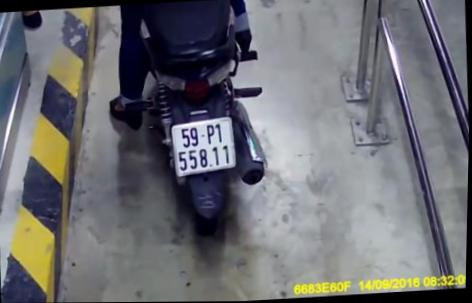LP: (170, 116, 239, 176)
